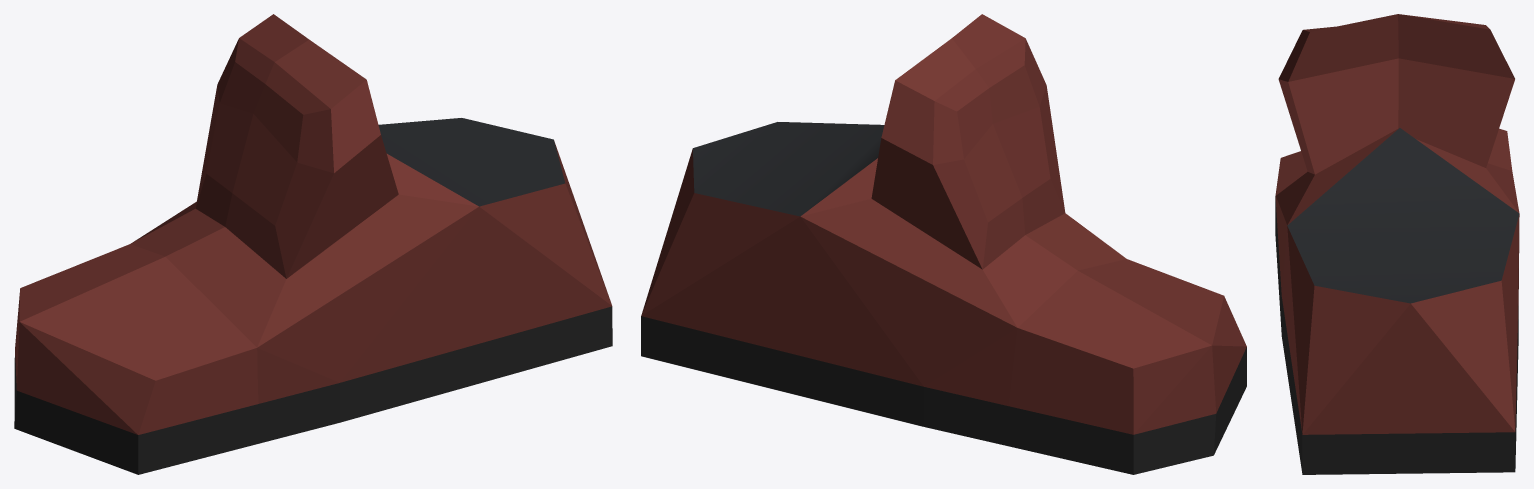
The model's file is SM_Prop_Shoes_04.fbx.
3 renders of one model, left to right at view 1: azimuth 30°, elevation 25°; view 2: azimuth 150°, elevation 25°; view 3: azimuth 270°, elevation 25°, orthographic.
Visible parts, largest first — view 1: SM_Prop_Shoes_04; view 2: SM_Prop_Shoes_04; view 3: SM_Prop_Shoes_04.
Boxes of the visible parts, x1,y1,x2,y2 form: SM_Prop_Shoes_04: [14, 14, 612, 474]; SM_Prop_Shoes_04: [641, 14, 1246, 474]; SM_Prop_Shoes_04: [1275, 14, 1519, 474].
Bounding box in the file's own units: 24.15 × 14.46 × 9.53.
